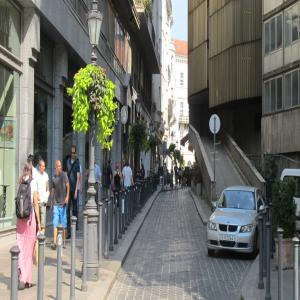Vehicle-registration-plate: (221, 235, 235, 242)
